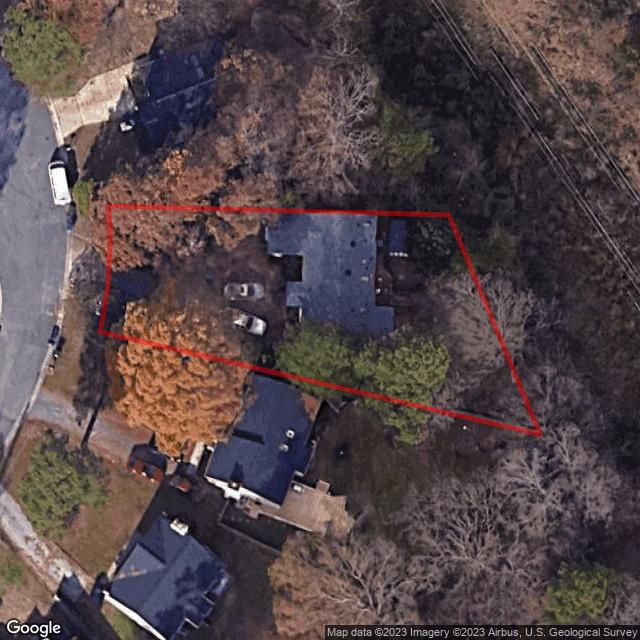Driveway: (111, 257, 287, 340)
House: (266, 215, 394, 351)
Other: (389, 220, 408, 257)
